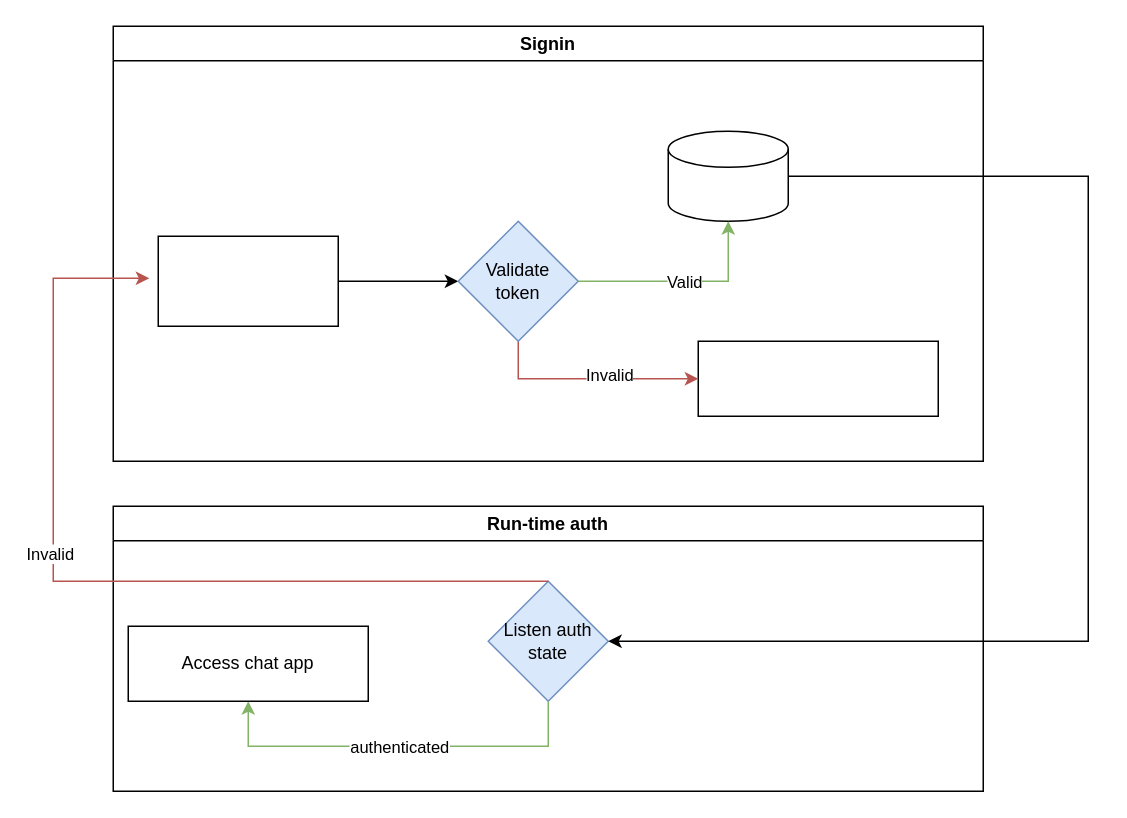
The diagram is 1127 pixels wide and 818 high, and some of its shapes have lost their labels. The shapes that lost their labels are listed below. From the top down, each one's centre as x and y in pixels, then its label:
pixel 727 175: localStorage
pixel 247 280: Padi app token
pixel 817 378: Unhandled
